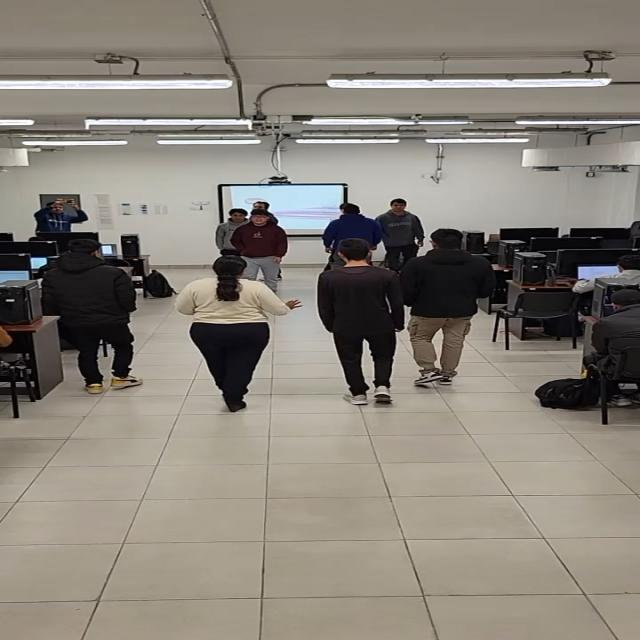Persona: (174, 255, 303, 414), (39, 238, 147, 395), (399, 226, 500, 384), (314, 237, 406, 405), (228, 207, 291, 296), (325, 204, 380, 270), (376, 199, 426, 259), (216, 207, 249, 257), (250, 202, 272, 210)
